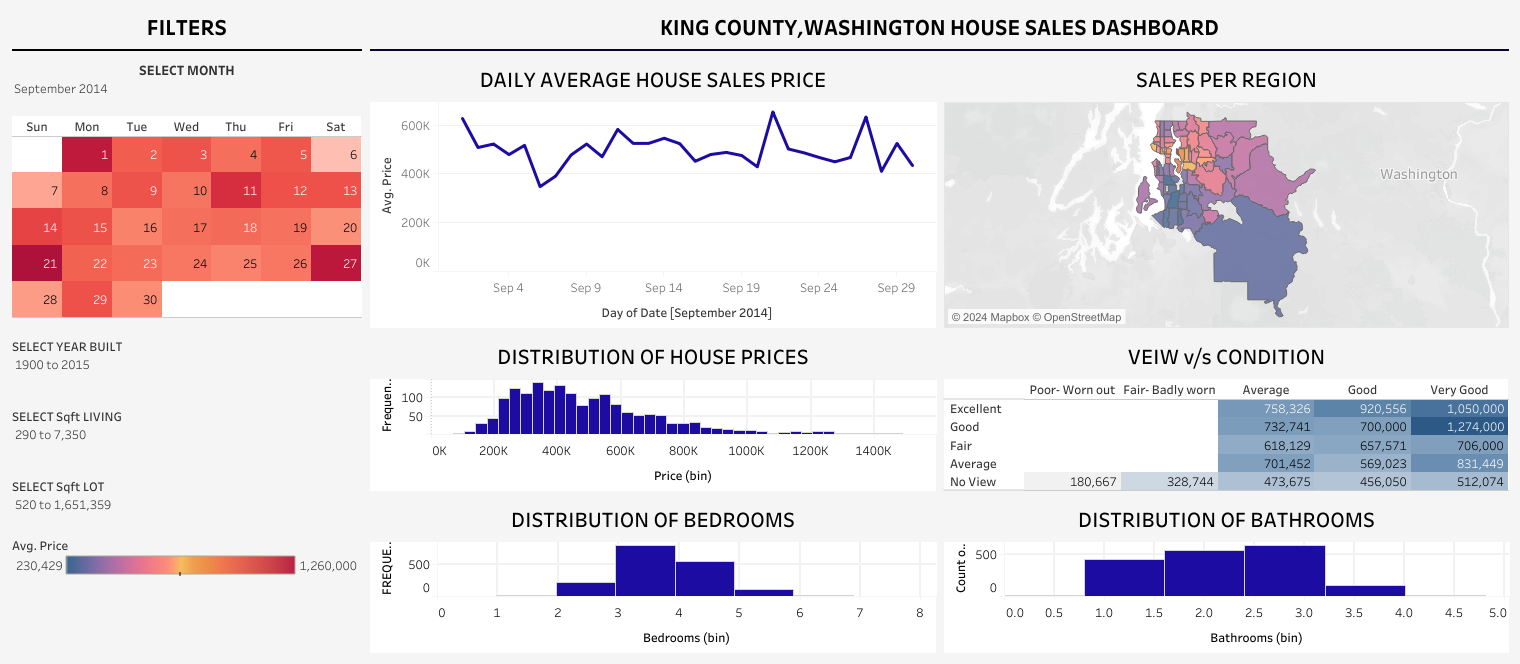

The dashboard page shown, as its layout file describes it:
{"tool":"tableau","page":{"name":"HOUSE SALES DASHBOARD","canvas":[1000,1000],"units":"permille","ordinal":0},"visuals":[{"type":"text","box":[5.8,11.1,235.4,51.1]},{"type":"text","box":[241.1,11.1,753.1,51.1]},{"type":"blank","box":[5.8,62.2,235.4,13.8]},{"type":"blank","box":[241.1,62.2,753.1,13.8]},{"type":"filter","title":"calender","param":"[federated.14jqsfd0xyhwmp1bs1hxv19molp0].[my:date:ok]","box":[5.8,76,235.4,73.2]},{"type":"worksheet","title":"line chart","mark":"Automatic","rows":["price"],"cols":["date"],"box":[241.1,76,376.6,424]},{"type":"worksheet","title":"map","mark":"Automatic","box":[617.7,76,376.6,424]},{"type":"worksheet","title":"calender","mark":"Square","rows":["date"],"cols":["date"],"box":[5.8,149.2,235.4,290.1]},{"type":"filter","title":"calender","param":"[federated.14jqsfd0xyhwmp1bs1hxv19molp0].[none:yr_built:qk]","box":[5.8,500,235.4,70.4]},{"type":"worksheet","title":"barchart","mark":"Automatic","rows":["price"],"cols":["Price (bin)"],"box":[241.1,500,376.6,244.5]},{"type":"worksheet","title":"Sheet 6","mark":"Square","rows":["view"],"cols":["condition"],"box":[617.7,500,376.6,244.5]},{"type":"filter","title":"calender","param":"[federated.14jqsfd0xyhwmp1bs1hxv19molp0].[none:sqft_living:qk]","box":[5.8,570.4,235.4,70.4]},{"type":"filter","title":"calender","param":"[federated.14jqsfd0xyhwmp1bs1hxv19molp0].[none:sqft_lot:qk]","box":[5.8,640.9,235.4,77.4]},{"type":"legend","title":"map","param":"[federated.14jqsfd0xyhwmp1bs1hxv19molp0].[avg:price:qk]","box":[5.8,718.2,235.4,89.8]},{"type":"worksheet","title":"bedrooms","mark":"Automatic","rows":["bedrooms"],"cols":["Bedrooms (bin)"],"box":[241.1,744.4,376.6,244.5]},{"type":"worksheet","title":"bathrooms","mark":"Automatic","rows":["bathrooms"],"cols":["Bathrooms (bin)"],"box":[617.7,744.4,376.6,244.5]}]}

Visuals, with their boxes on the dashboard's canvas, which has no fixed pixel size, in thousandths of its width and height (x1, y1, x2, y2). These are canvas units, not pixel positions in the 1520x664 screenshot, which may show the page scaled, cropped or inside an application window:
text: detection(6, 11, 241, 62)
text: detection(241, 11, 994, 62)
blank: detection(6, 62, 241, 76)
blank: detection(241, 62, 994, 76)
"calender" filter: detection(6, 76, 241, 149)
"line chart" worksheet: detection(241, 76, 618, 500)
"map" worksheet: detection(618, 76, 994, 500)
"calender" worksheet (Square marks): detection(6, 149, 241, 439)
"calender" filter: detection(6, 500, 241, 570)
"barchart" worksheet: detection(241, 500, 618, 744)
"Sheet 6" worksheet (Square marks): detection(618, 500, 994, 744)
"calender" filter: detection(6, 570, 241, 641)
"calender" filter: detection(6, 641, 241, 718)
"map" legend: detection(6, 718, 241, 808)
"bedrooms" worksheet: detection(241, 744, 618, 989)
"bathrooms" worksheet: detection(618, 744, 994, 989)
